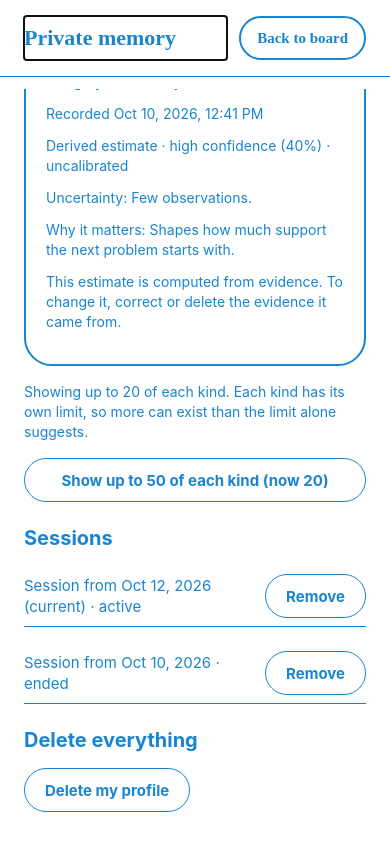
MemoryScreen › states the inspection bound per kind, and raises it only on request
(page scrolled)
Expected: the text with test id "memory-bound" shows "up to 20 of each kind", [24,382,366,442]
Expected: the text with test id "memory-bound" does not show "20 items in total", [24,382,366,442]
Click the button with aria-label "Show more of each kind": (195, 480) [24,458,366,502]
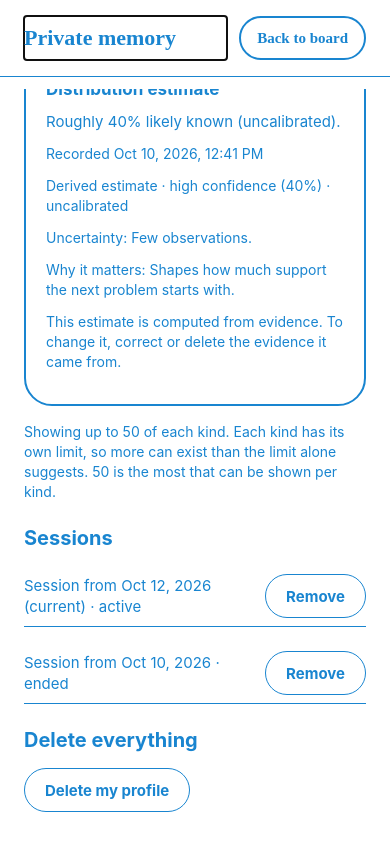
Now the text with test id "memory-bound" shows "up to 50 of each kind", box [24,422,366,502]
